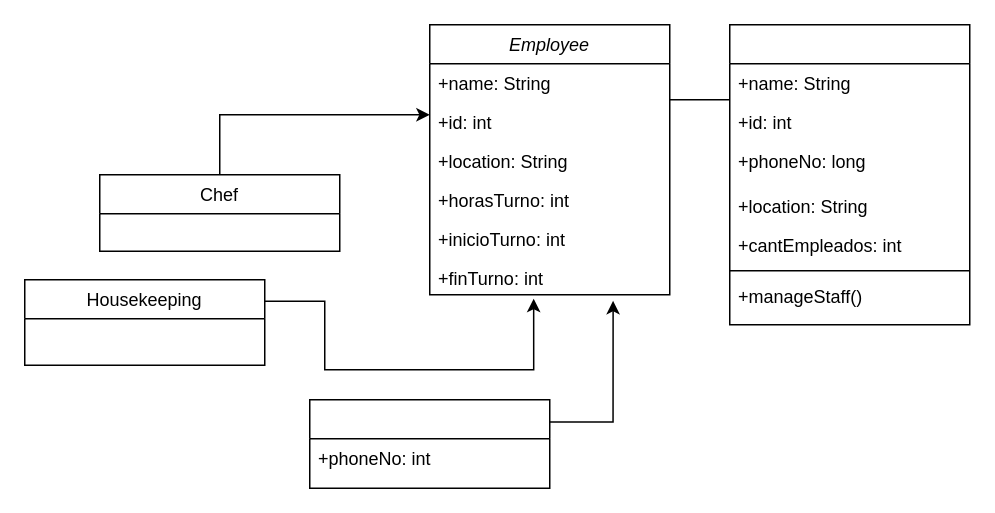
The diagram is 995 pixels wide and 513 high, and some of its shapes have lost their labels. Here are the shapes that lost their labels. From the top down, the box of each, then its label:
(728, 23, 970, 325): Manager
(308, 398, 550, 488): Receptionist
